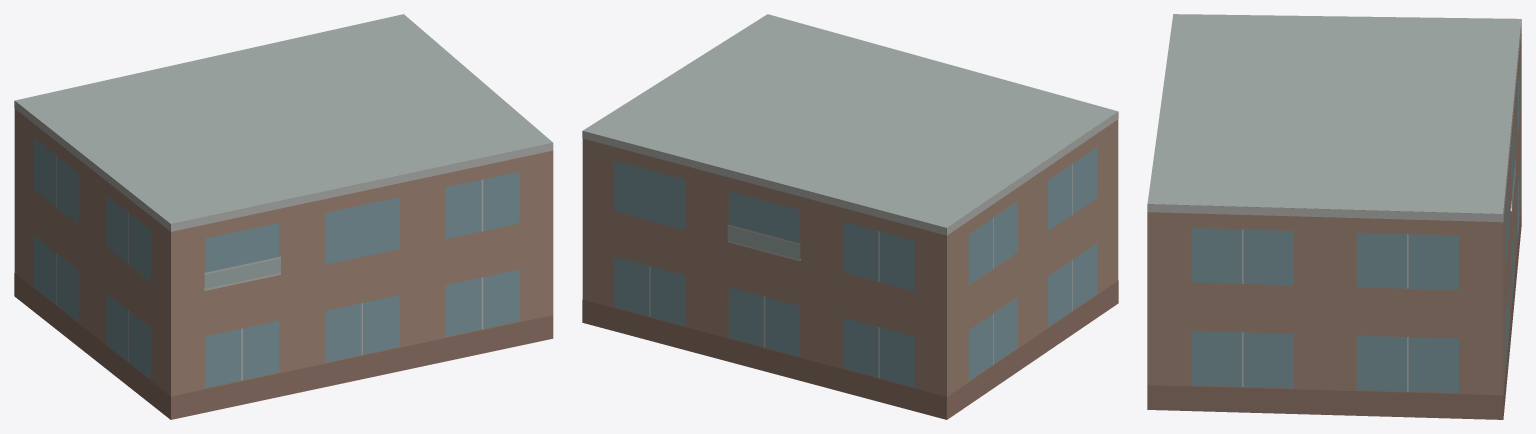
Rendered from survey-upis-32650014.glb.
3 renders of one model, left to right at view 1: azimuth 30°, elevation 25°; view 2: azimuth 150°, elevation 25°; view 3: azimuth 270°, elevation 25°, orthographic. The views are drawn at different scales.
Visible parts, largest first — view 1: survey-upis-32650014.tmp; view 2: survey-upis-32650014.tmp; view 3: survey-upis-32650014.tmp.
Part boxes in pixels (<box>): survey-upis-32650014.tmp: <box>14,14,553,419</box>; survey-upis-32650014.tmp: <box>582,14,1118,419</box>; survey-upis-32650014.tmp: <box>1147,14,1521,419</box>.
Size of the model in its own units: 12.72 by 6.1 by 10.06.
